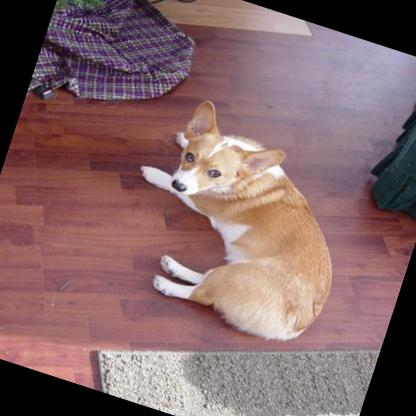Pembroke: (100, 80, 378, 354)
